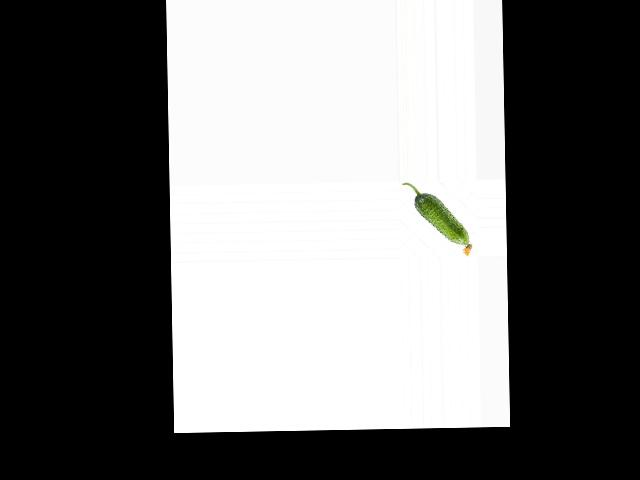cucumber: (402, 181, 472, 257)
